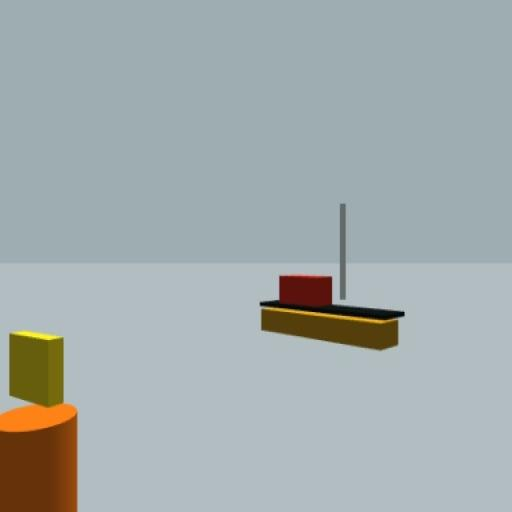vessel: (260, 202, 408, 357)
